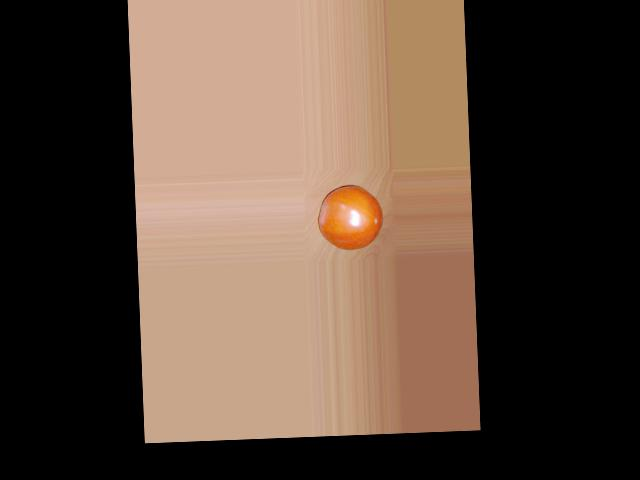tomato: (317, 184, 384, 252)
